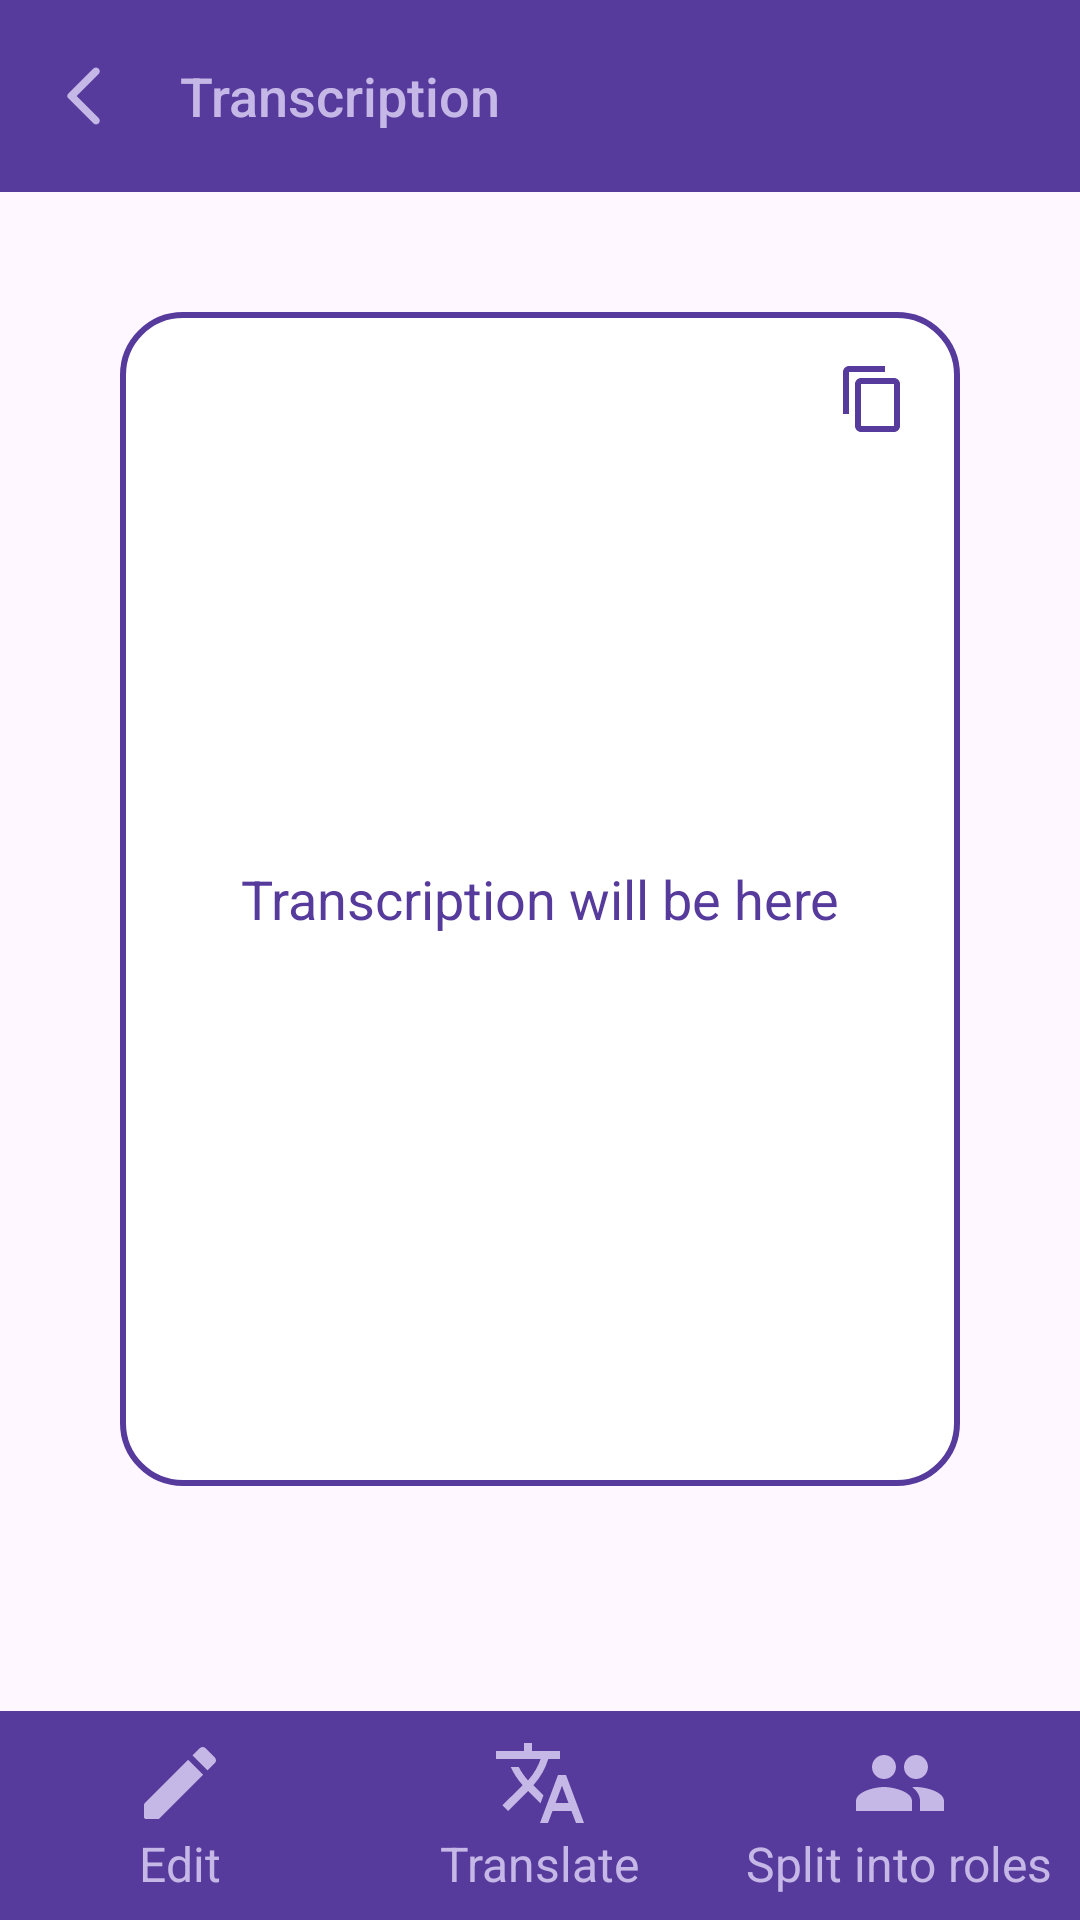

Point at icon controls on the screen. Image size 1080w x 1920h, points as (x,y).
Copy transcription: (871,399)
